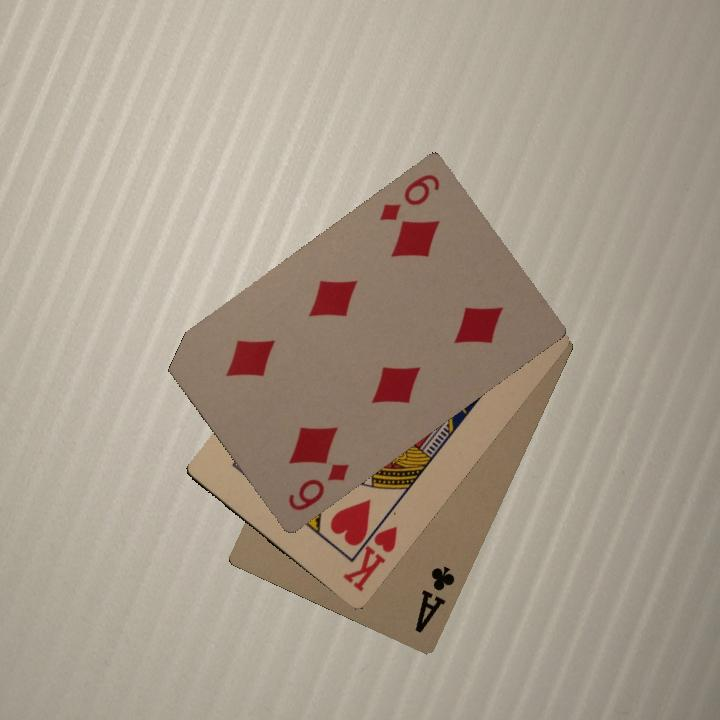6d: (284, 459, 352, 514), (375, 170, 443, 224)
Ac: (410, 561, 458, 636)
Kh: (338, 513, 400, 594)
